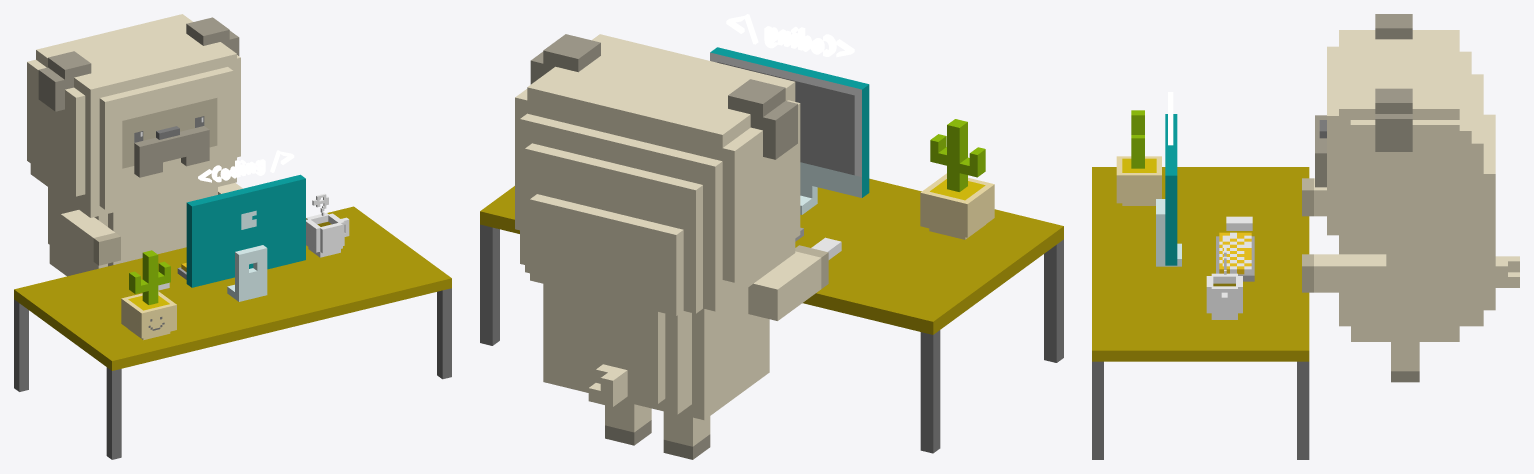
The model's file is pug_test-1.glb.
3 renders of one model, left to right at view 1: azimuth 30°, elevation 25°; view 2: azimuth 150°, elevation 25°; view 3: azimuth 270°, elevation 25°, orthographic. The views are drawn at different scales.
Visible parts, largest first — view 1: pug_pixel_0227-2; view 2: pug_pixel_0227-2; view 3: pug_pixel_0227-2.
Part boxes in pixels (box(x1,y1,x2,y2)): pug_pixel_0227-2: box(14, 14, 451, 459); pug_pixel_0227-2: box(480, 14, 1063, 459); pug_pixel_0227-2: box(1092, 14, 1519, 459).
Bounding box in the file's own units: 18 × 14 × 17.73.
